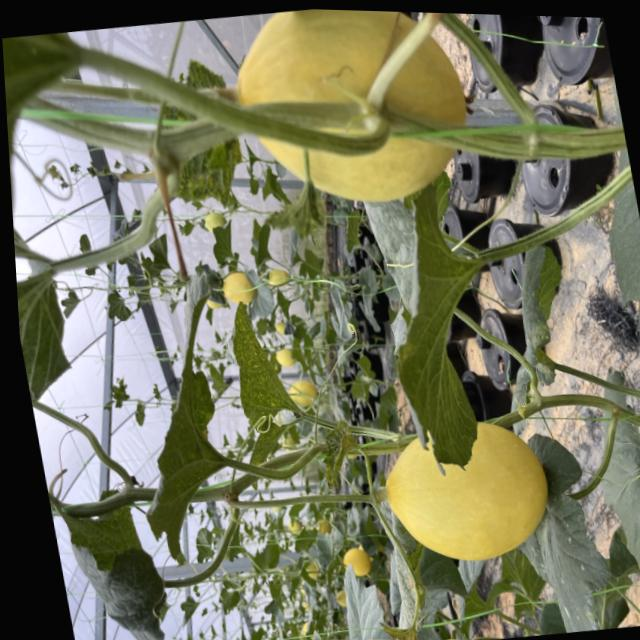CMV: (501, 422, 616, 637), (55, 482, 174, 640), (221, 294, 304, 430), (312, 408, 366, 492)
alternaria leaf blight: (115, 272, 259, 561), (366, 491, 439, 640)
bacterial wilt: (377, 615, 425, 640)
downy mildew: (354, 189, 507, 483)
healthy: (586, 403, 640, 593), (590, 142, 640, 339), (16, 274, 83, 405), (510, 239, 577, 347)
